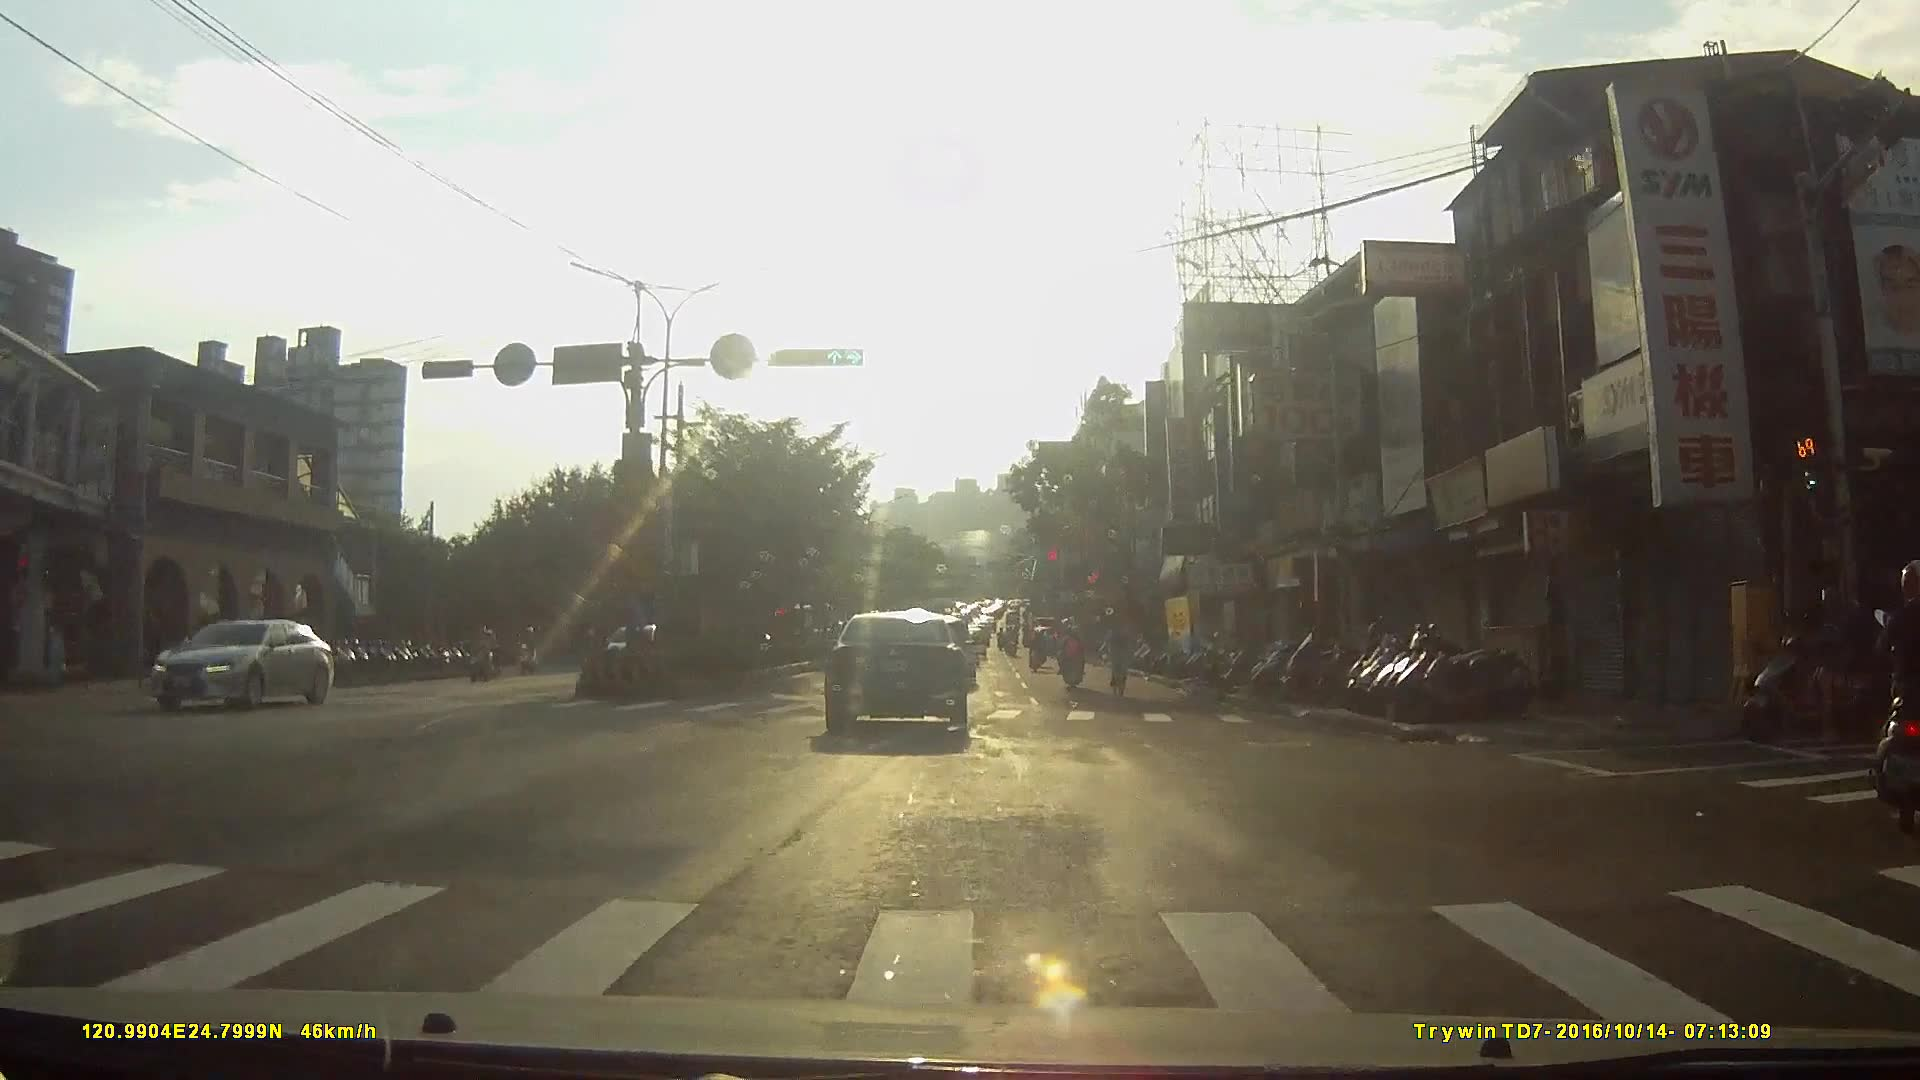rider: (1871, 563, 1914, 822), (1104, 621, 1130, 709), (1059, 628, 1086, 696), (469, 625, 499, 685), (514, 625, 542, 679), (1026, 627, 1050, 676)
vehicle: (827, 608, 986, 750), (143, 615, 337, 720)
